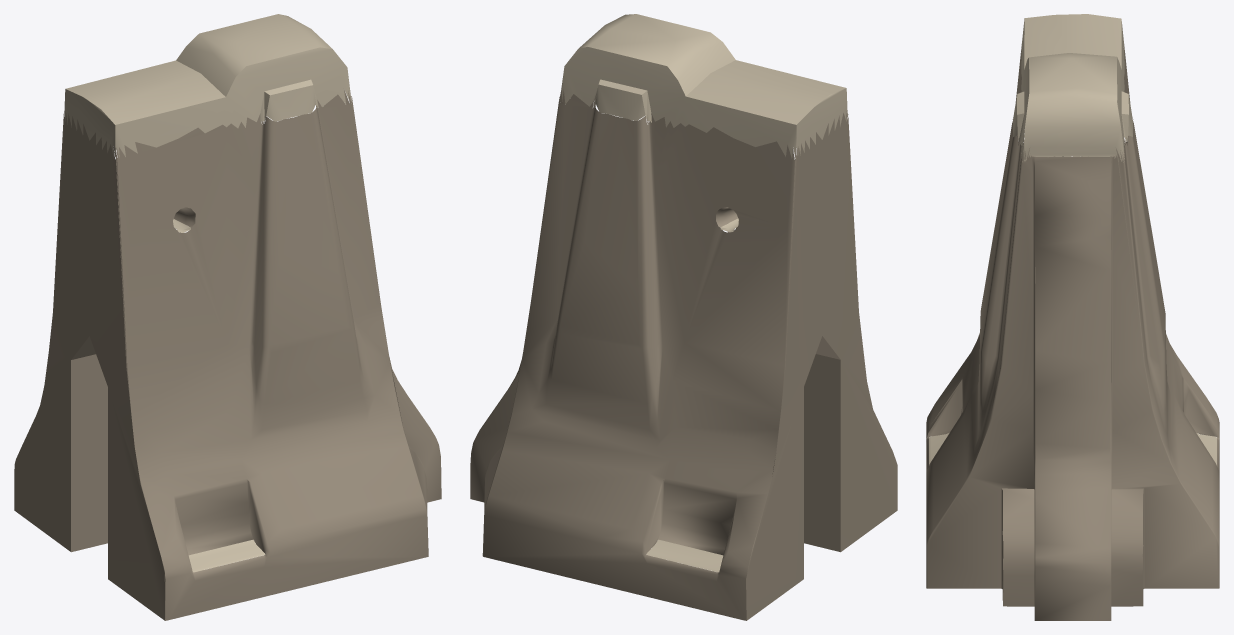
Rendered from stone-wall-w.glb.
The picture shows the model from 3 angles, left to right: view 1: azimuth 30°, elevation 25°; view 2: azimuth 150°, elevation 25°; view 3: azimuth 270°, elevation 25°; orthographic projection. The views are drawn at different scales.
Parts seen in each view (by area): view 1: body; view 2: body; view 3: body.
Boxes of the visible parts, x1=… form: body: x1=14, y1=14, x2=441, y2=620; body: x1=470, y1=14, x2=897, y2=620; body: x1=926, y1=14, x2=1219, y2=620.
Bounding box in the file's own units: 0.9441 × 1.33 × 0.7437.
